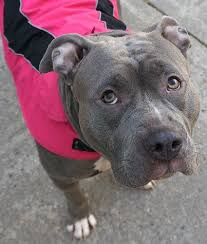Perro Pitbull: (40, 11, 202, 195)
